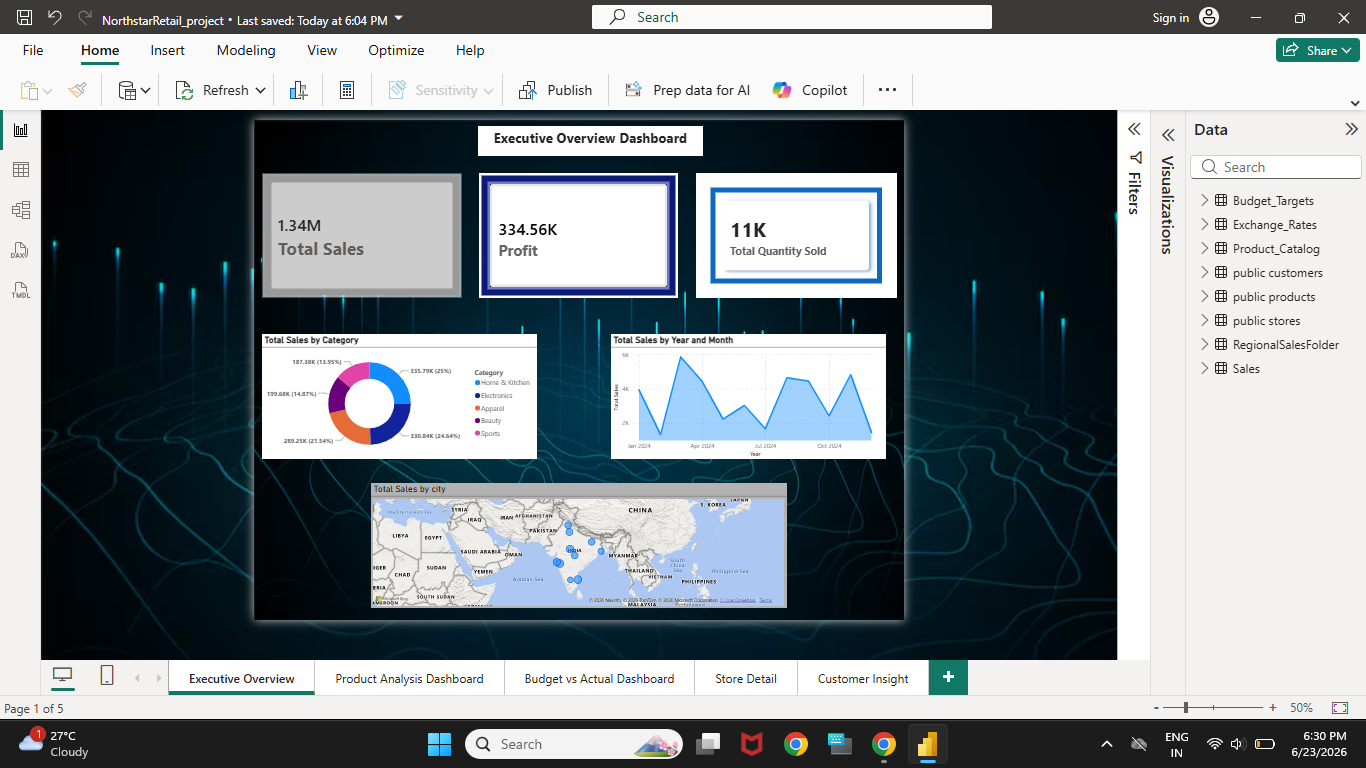

What the dashboard file says about the page in this screenshot:
{"tool":"powerbi","page":{"name":"Executive Overview","canvas":[1300,1000],"ordinal":0},"visuals":[{"type":"cardVisual","fields":{"Data":["Budget_Targets.Total Sales"]},"box":[16.7,106.7,400,250],"z":0},{"type":"cardVisual","fields":{"Data":["Sales.Total Quantity Sold"]},"box":[883.3,106.7,401.7,250],"z":1000},{"type":"cardVisual","fields":{"Data":["Budget_Targets.Profit"]},"box":[450,106.7,398.3,250],"z":2000},{"type":"lineChart","fields":{"Y":["Budget_Targets.Total Sales"],"Category":["Exchange_Rates.Month.Variation.Date Hierarchy.Year","Exchange_Rates.Month.Variation.Date Hierarchy.Month"]},"box":[714,428,550,250],"z":3000},{"type":"map","fields":{"Category":["public customers.city"],"Size":["Budget_Targets.Total Sales"]},"box":[234,726,832,250],"z":4000},{"type":"donutChart","fields":{"Category":["Product_Catalog.Category"],"Y":["Budget_Targets.Total Sales"]},"box":[16,428,550,250],"z":5000},{"type":"textbox","box":[447.8,13,450,60],"z":6000}]}

Visuals, with their boxes on the page's 1300x1000 design canvas (x1, y1, x2, y2). These are canvas units, not pixel positions in the 1366x768 screenshot, which may show the page scaled, cropped or inside an application window:
cardVisual - Budget_Targets.Total Sales: <region>17, 107, 417, 357</region>
cardVisual - Sales.Total Quantity Sold: <region>883, 107, 1285, 357</region>
cardVisual - Budget_Targets.Profit: <region>450, 107, 848, 357</region>
lineChart - Budget_Targets.Total Sales x Exchange_Rates.Month.Variation.Date Hierarchy.Year: <region>714, 428, 1264, 678</region>
map - public customers.city x Budget_Targets.Total Sales: <region>234, 726, 1066, 976</region>
donutChart - Product_Catalog.Category x Budget_Targets.Total Sales: <region>16, 428, 566, 678</region>
textbox: <region>448, 13, 898, 73</region>
